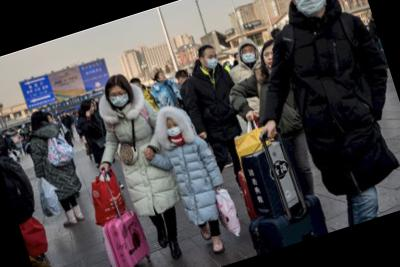with_mask: (107, 87, 130, 109), (238, 45, 258, 66), (202, 51, 221, 71), (163, 120, 182, 138)
without_mask: (261, 49, 278, 69), (87, 103, 97, 114), (158, 72, 167, 81)
